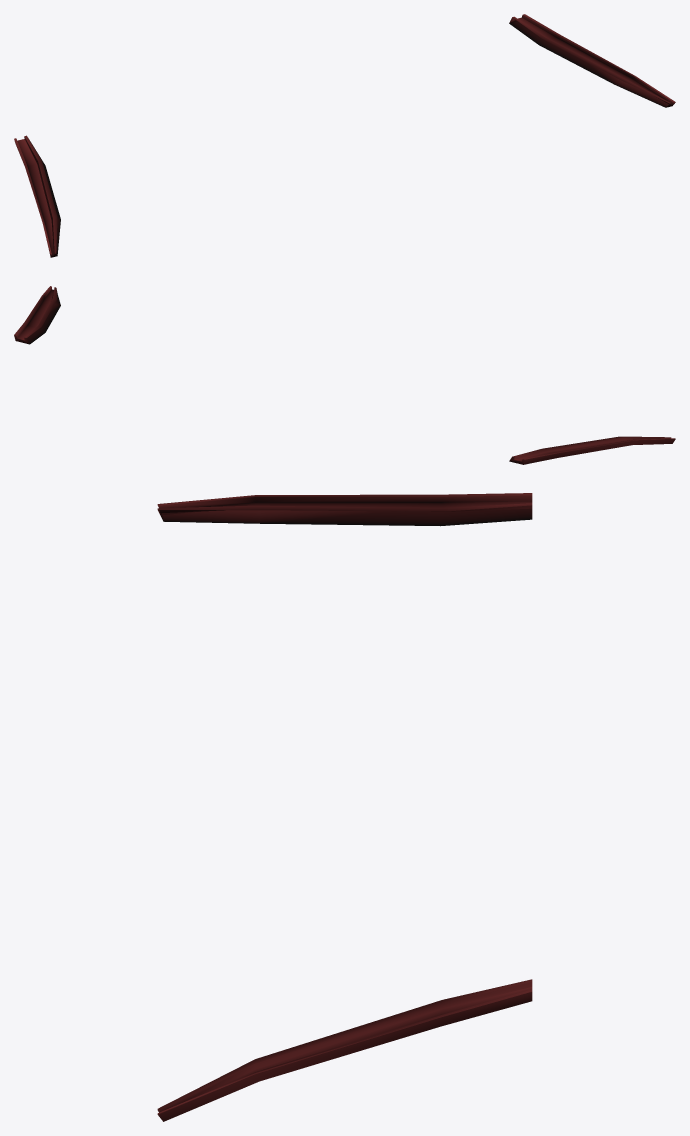
File: Supra_RearBar_04_Trim.fbx
3 views of the same model, one above another, from view 1: azimuth 30°, elevation 25°; view 2: azimuth 150°, elevation 25°; view 3: azimuth 270°, elevation 25° (orthographic). The views are drawn at different scales.
Visible parts, largest first — view 1: Supra_RearBar_04_Trim; view 2: Supra_RearBar_04_Trim; view 3: Supra_RearBar_04_Trim.
Boxes of the visible parts, left/top/right/bottom form: Supra_RearBar_04_Trim: left=14, top=14, right=675, bottom=257; Supra_RearBar_04_Trim: left=14, top=286, right=675, bottom=464; Supra_RearBar_04_Trim: left=157, top=493, right=532, bottom=1121.
Bounding box in the file's own units: 180 × 10.45 × 46.53.
